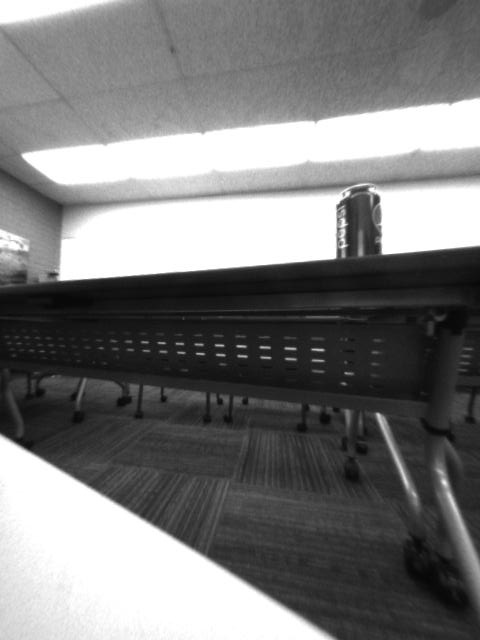can: (334, 178, 388, 268)
